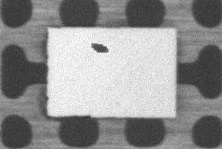DIE_INK: (127, 22, 170, 40)
